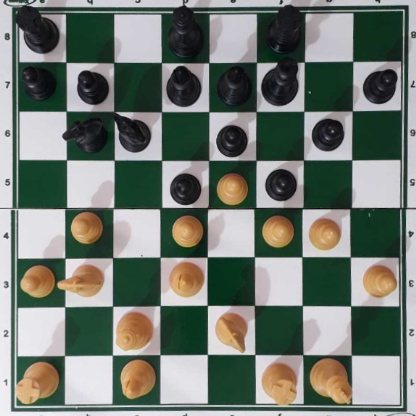black-bishop: (216, 65, 253, 107), (166, 65, 201, 106)
black-king: (260, 57, 300, 107)
black-knight: (62, 117, 106, 151), (112, 112, 151, 150)
black-pawn: (363, 67, 398, 104), (20, 64, 55, 99), (215, 120, 249, 156), (311, 116, 345, 151), (264, 165, 297, 201), (76, 67, 107, 104), (170, 169, 202, 204)
black-queen: (165, 5, 206, 57)
black-rook: (14, 3, 61, 55), (265, 5, 304, 53)
white-bishop: (119, 358, 154, 399), (169, 259, 204, 296)
white-king: (309, 357, 354, 405)
white-knight: (56, 265, 105, 296), (214, 311, 250, 353)
white-pawn: (360, 262, 397, 300), (307, 213, 341, 251), (261, 213, 294, 247), (215, 170, 249, 203), (69, 210, 102, 243), (171, 213, 203, 247), (20, 266, 55, 296)
white-queen: (116, 308, 152, 353)
white-rook: (14, 360, 59, 403), (261, 363, 299, 405)
